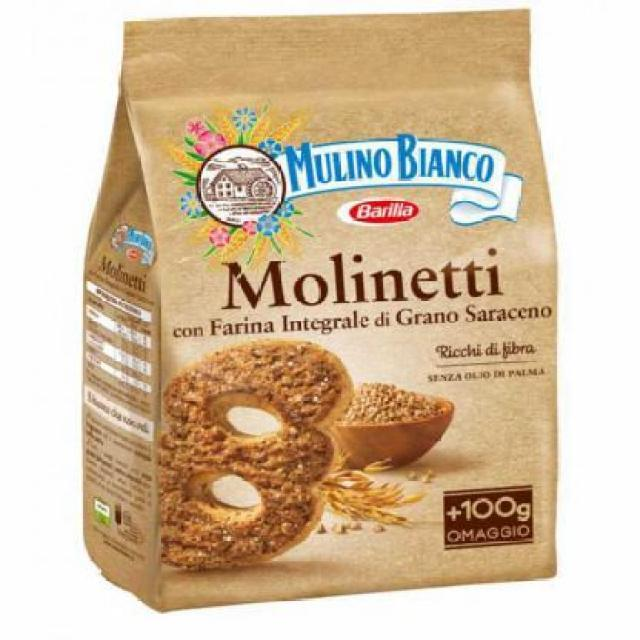Merendine: (62, 22, 576, 604)
